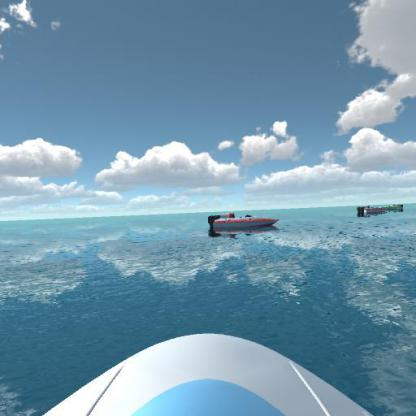usv0: (384, 198, 406, 213)
usv3: (202, 205, 284, 237), (356, 202, 389, 220)
